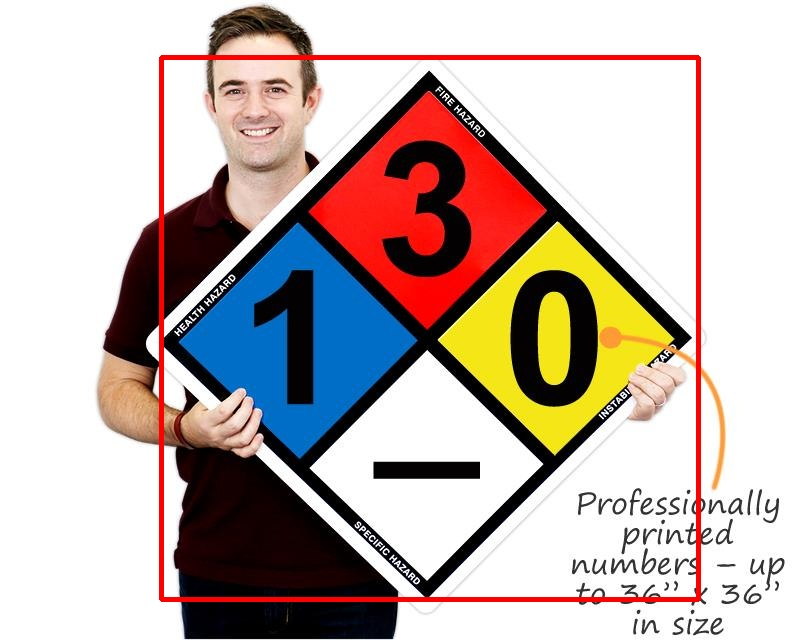nfpa: (161, 57, 698, 599)
